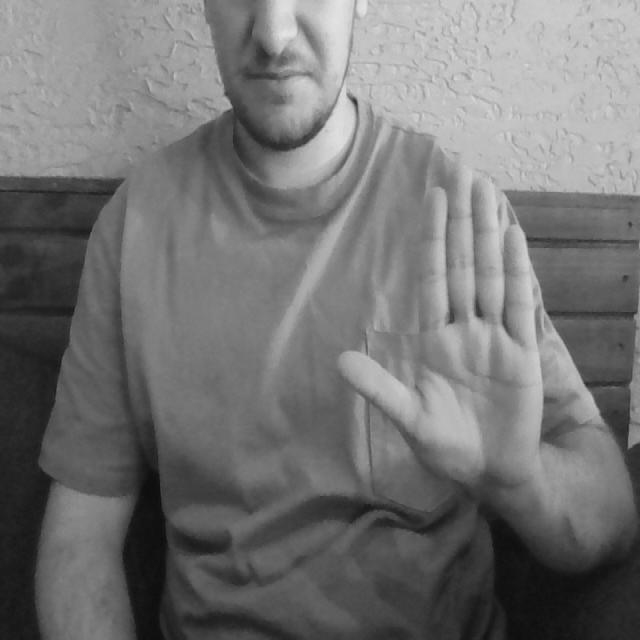Dur: (337, 149, 580, 507)
